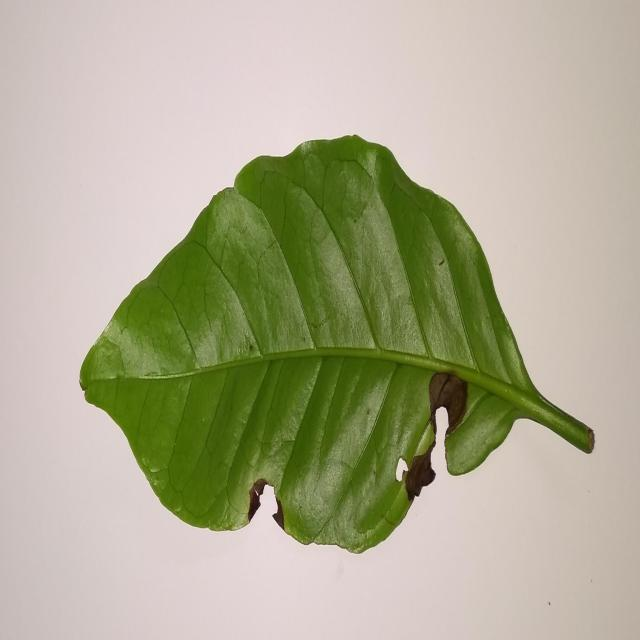Enfermedad-Antracnosis: (77, 136, 596, 556)
